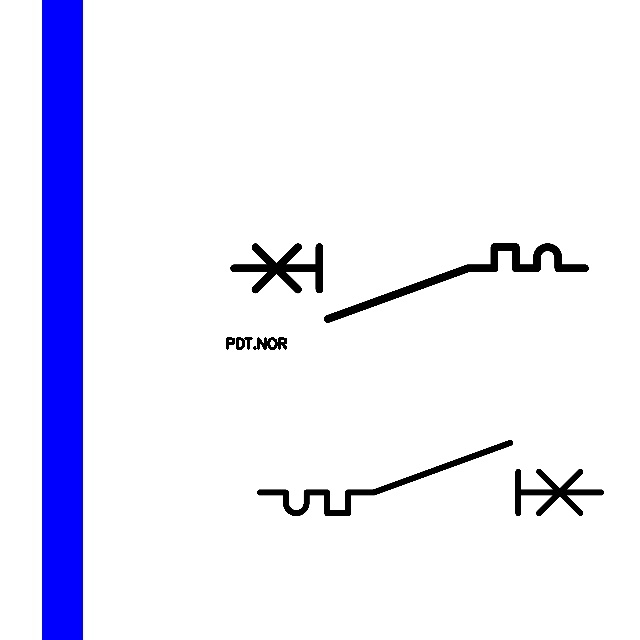interruptor_termomagnetico: (225, 238, 594, 328), (251, 434, 609, 522)
